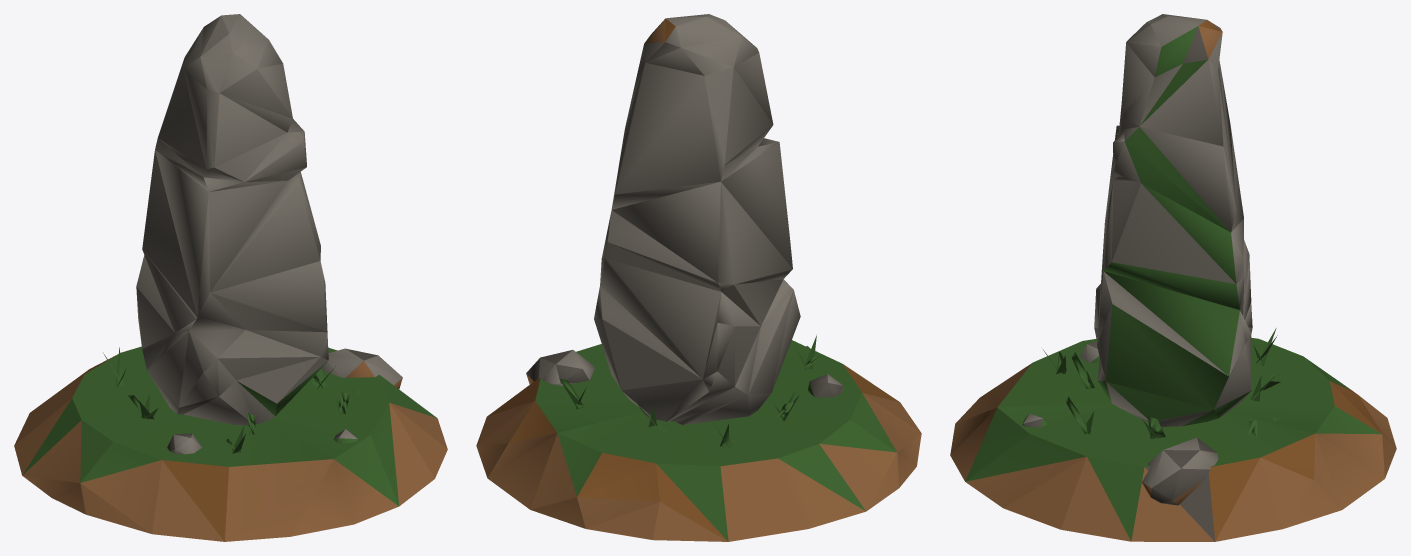
File: prop.standing_stone.glb
3 views of the same model, side by side, from view 1: azimuth 30°, elevation 25°; view 2: azimuth 150°, elevation 25°; view 3: azimuth 270°, elevation 25° (orthographic). The views are drawn at different scales.
Visible parts, largest first — view 1: asset; view 2: asset; view 3: asset.
Boxes of the visible parts, left/top/right/bottom form: asset: left=14, top=14, right=447, bottom=541; asset: left=476, top=14, right=921, bottom=541; asset: left=950, top=14, right=1396, bottom=541.
Size of the model in its own units: 1.67 by 1.8 by 1.68.
